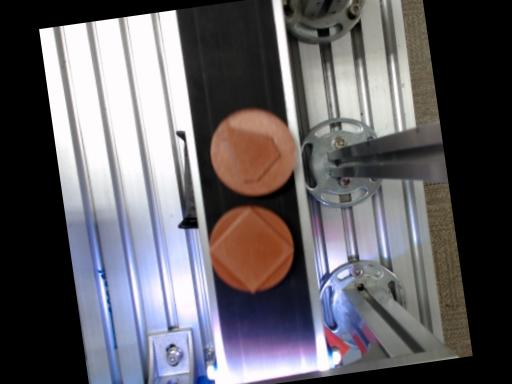Brown_Waper: (210, 107, 296, 195), (210, 204, 294, 292)
